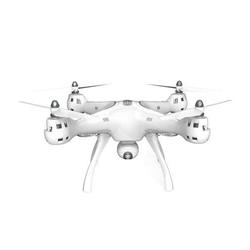drone: (12, 83, 232, 194)
